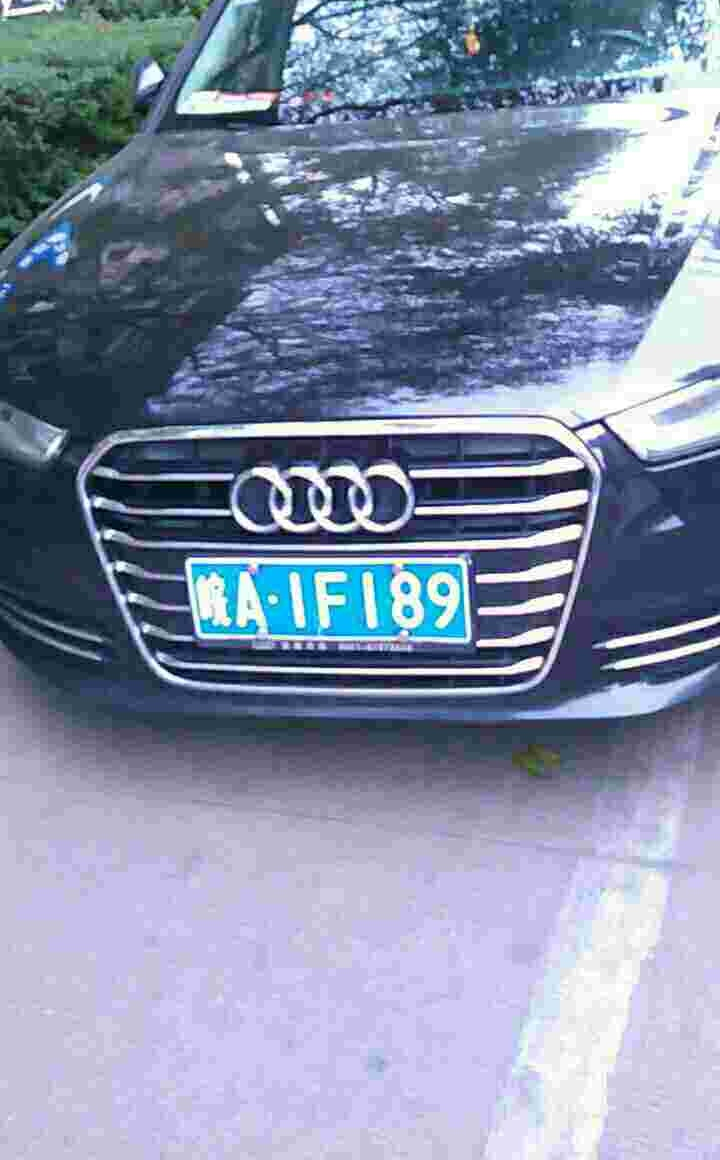car: (183, 562, 479, 639)
